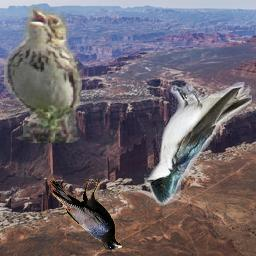Crow: (50, 180, 123, 253)
Sparrow: (4, 7, 82, 143)
Swallow: (144, 82, 252, 206)
